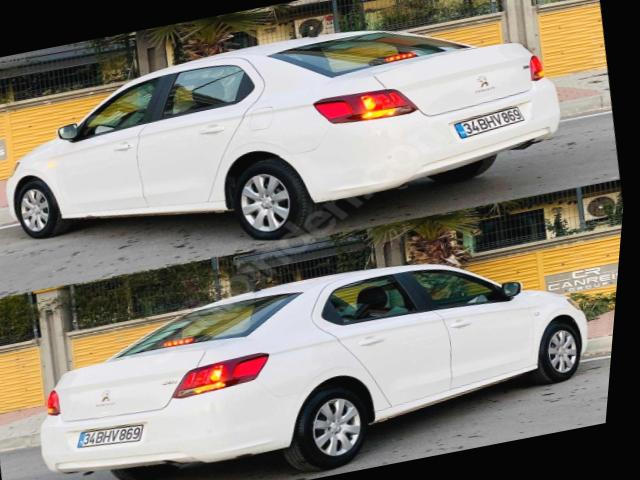plaka: (454, 106, 524, 138), (77, 425, 143, 447)
